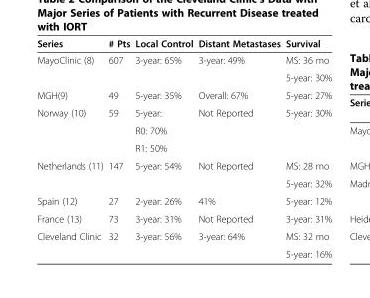table: (36, 37, 331, 259)
table column: (195, 37, 282, 259), (36, 37, 105, 259), (131, 37, 195, 259), (282, 37, 331, 259), (105, 37, 131, 259)
table column header: (36, 37, 331, 51)
table row: (36, 68, 331, 86), (36, 103, 331, 121), (36, 138, 331, 156), (36, 156, 331, 174), (36, 191, 331, 209), (36, 209, 331, 227), (36, 51, 331, 68), (36, 86, 331, 103), (36, 121, 331, 138), (36, 174, 331, 191), (36, 227, 331, 244), (36, 244, 331, 259), (36, 37, 331, 51)
table spanning cell: (36, 103, 105, 156), (36, 51, 105, 86), (36, 156, 105, 191), (36, 227, 105, 259)
